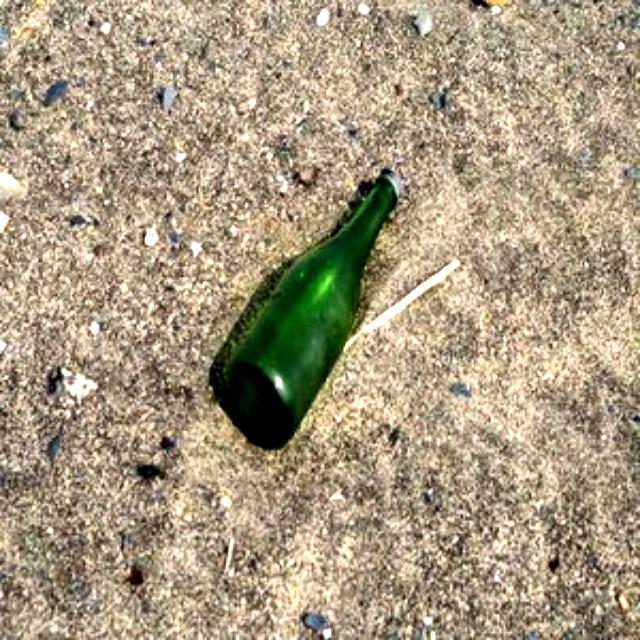Glass: (210, 166, 402, 448)
